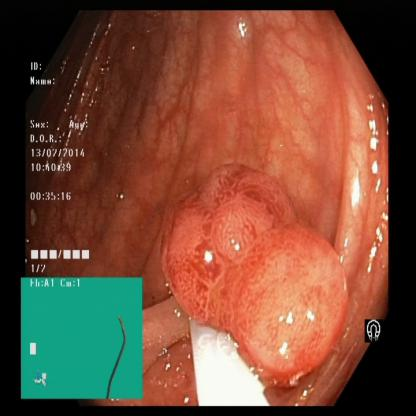Labels: (24, 54, 98, 276), (20, 280, 142, 398), (362, 314, 389, 351)
Polyps: (174, 176, 335, 363)
